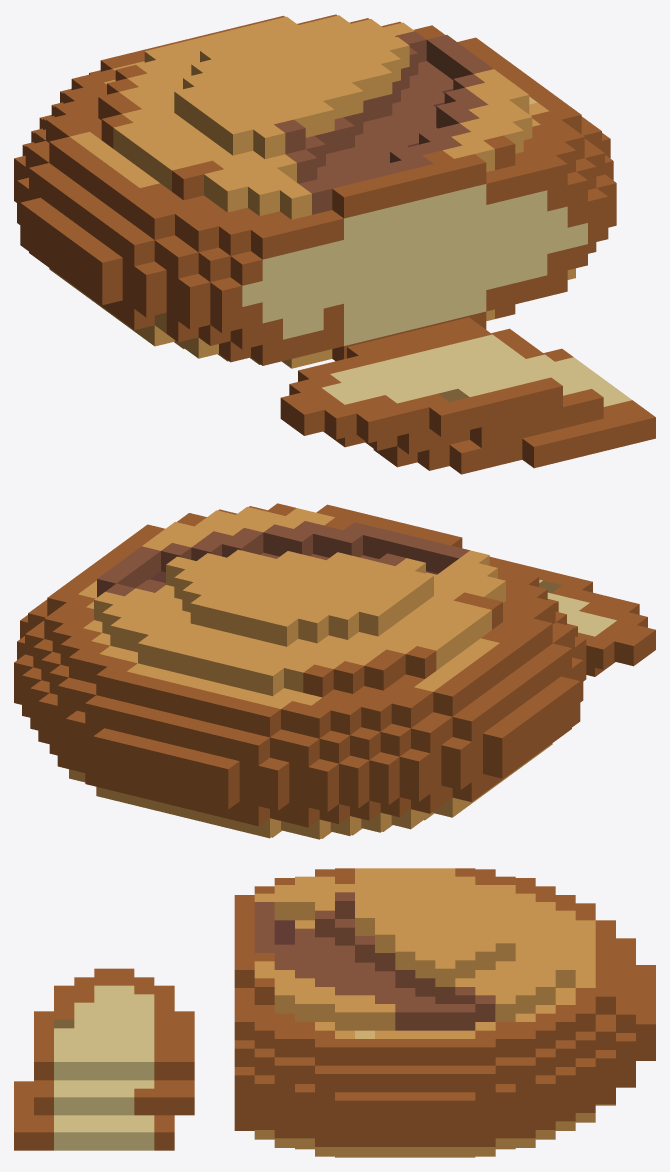
The model's file is single_bread.obj.
3 renders of one model, top to bottom at view 1: azimuth 30°, elevation 25°; view 2: azimuth 150°, elevation 25°; view 3: azimuth 270°, elevation 25°, orthographic. The views are drawn at different scales.
Size of the model in its own units: 2.5 by 1 by 3.2.
1 material, 1 textured.
